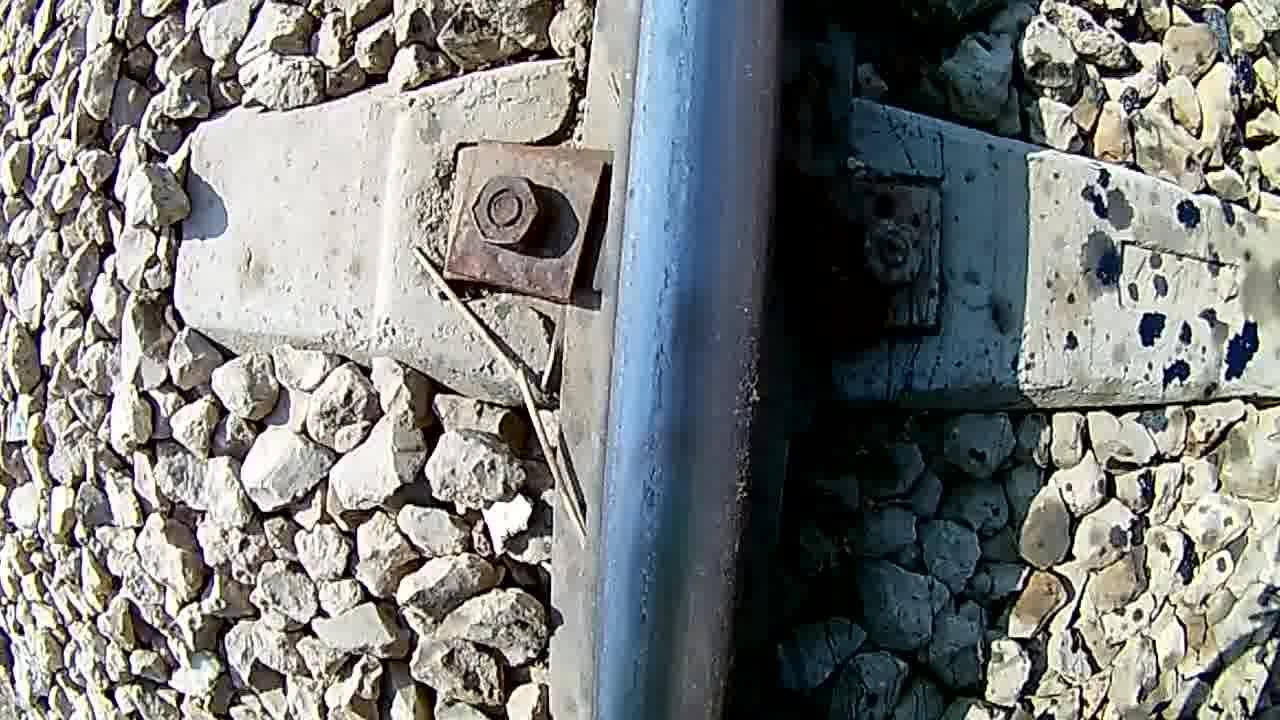crack: (611, 19, 772, 720)
